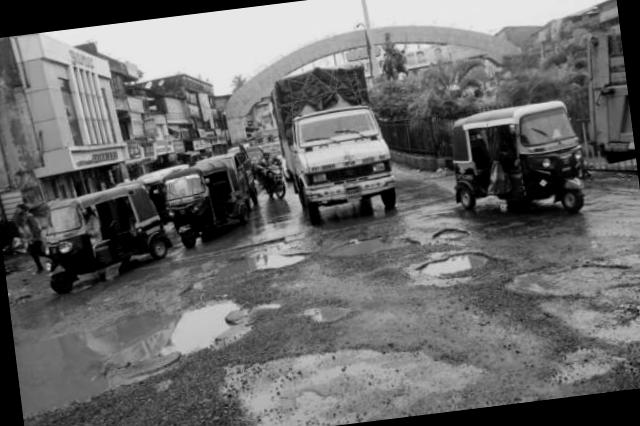Pothole: (8, 271, 262, 424), (112, 230, 320, 308), (494, 238, 640, 320), (319, 225, 418, 268), (405, 244, 498, 289), (291, 290, 356, 337), (428, 219, 471, 246)
